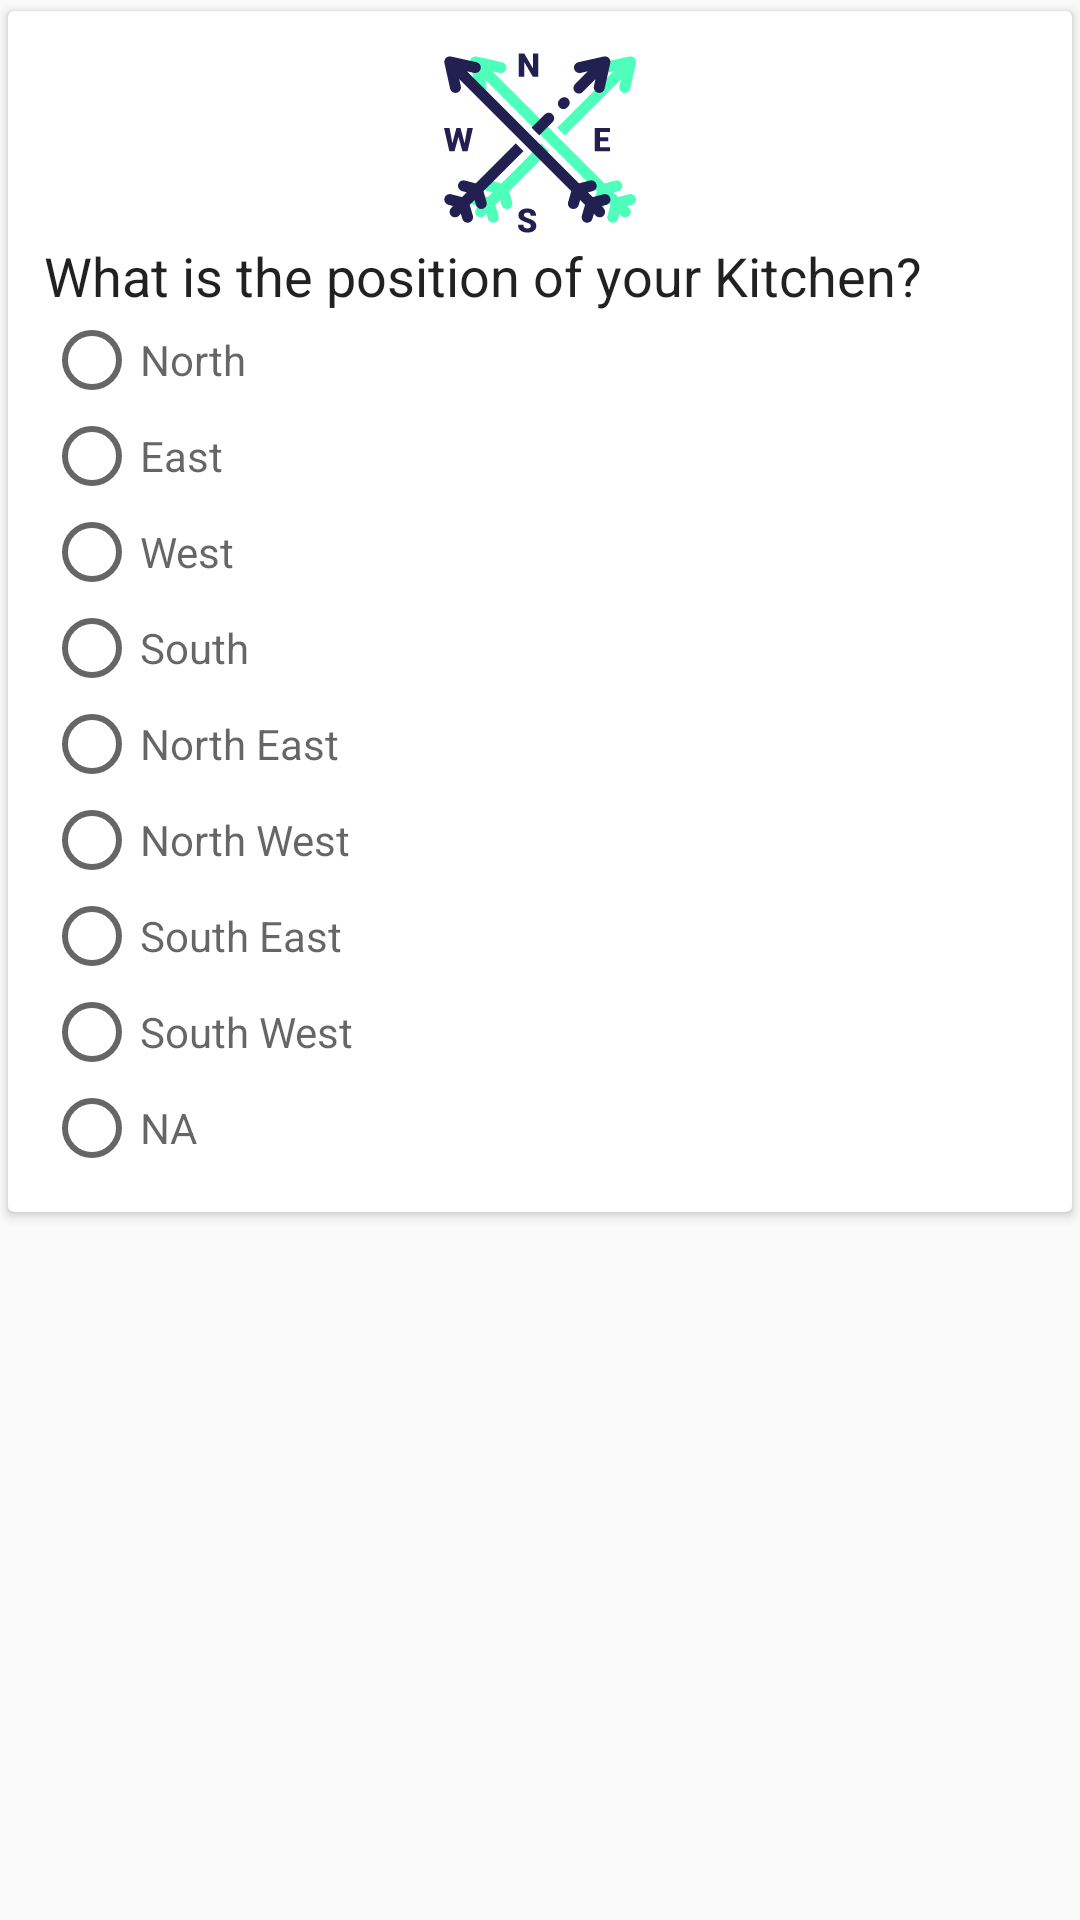

Icon click points for this 1080px x 1920px phone screenshot, format point (x, y):
cardinal point: point (540, 143)
